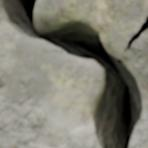broken_brick: (0, 14, 101, 147), (36, 0, 147, 86), (131, 97, 147, 147)
crack: (0, 0, 147, 147), (123, 15, 147, 53)
